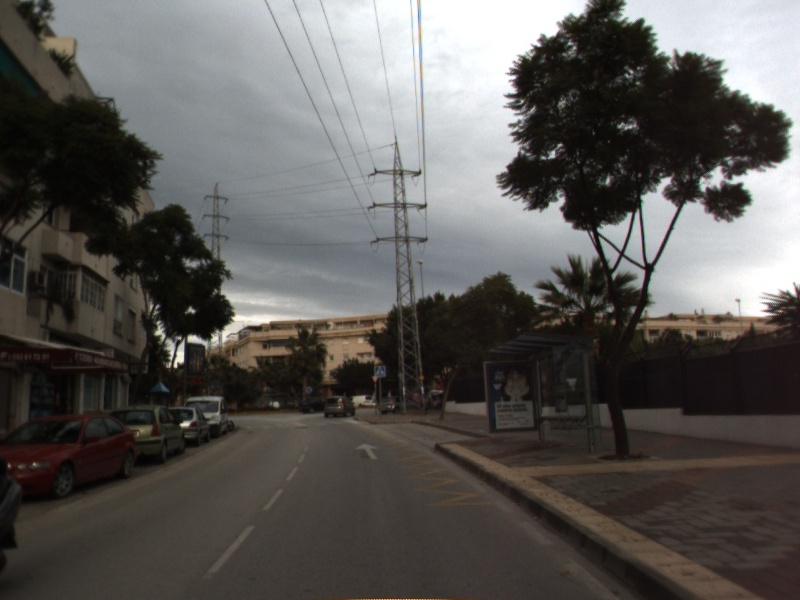STRAIGHT: (353, 441, 381, 461)
